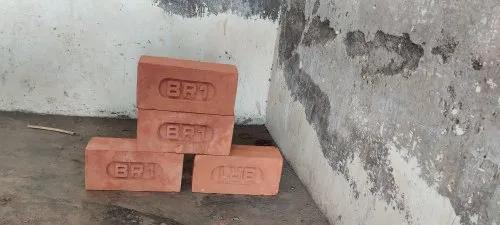brick: (136, 61, 238, 115), (137, 112, 236, 155), (85, 151, 182, 192), (192, 156, 283, 196)
